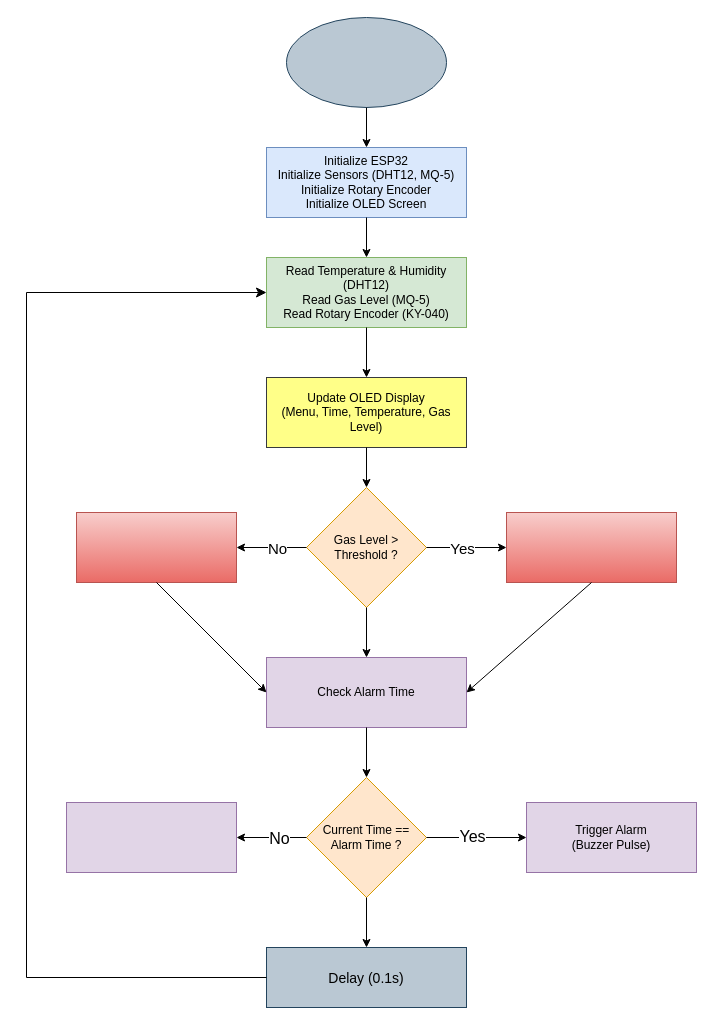
This 714x1025 diagram has some shape labels left out. Each missing label, with the centre of its shape:
"Continue" goes at pixel 151 837.
"Start" goes at pixel 366 62.
"Turn OFF LED Deactivate Buzzer" goes at pixel 156 547.
"Turn ON LED Activate Buzzer" goes at pixel 591 547.
